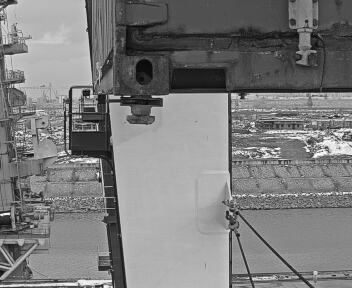twist_lock_1: (112, 89, 167, 135)
